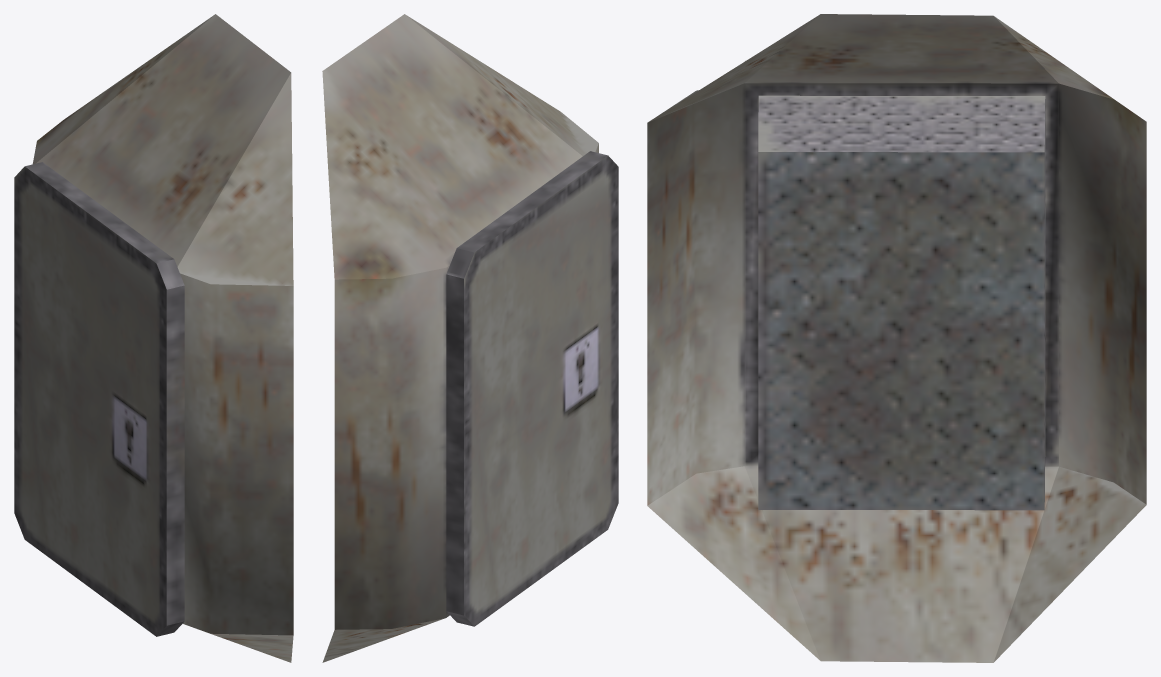
File: TrainCarShelf.fbx
3 views of the same model, side by side, from view 1: azimuth 30°, elevation 25°; view 2: azimuth 150°, elevation 25°; view 3: azimuth 270°, elevation 25° (orthographic). The views are drawn at different scales.
Parts seen in each view (by area): view 1: TrainCarShelf, TrainCarShelfDoor; view 2: TrainCarShelf, TrainCarShelfDoor; view 3: TrainCarShelf.
Part boxes in pixels (x1,y1,x2,y2): TrainCarShelf: [32, 14, 293, 662]; TrainCarShelfDoor: [14, 162, 184, 636]; TrainCarShelf: [322, 14, 598, 662]; TrainCarShelfDoor: [446, 151, 618, 626]; TrainCarShelf: [647, 14, 1146, 662].
Bounding box in the file's own units: 74.89 × 246 × 172.
